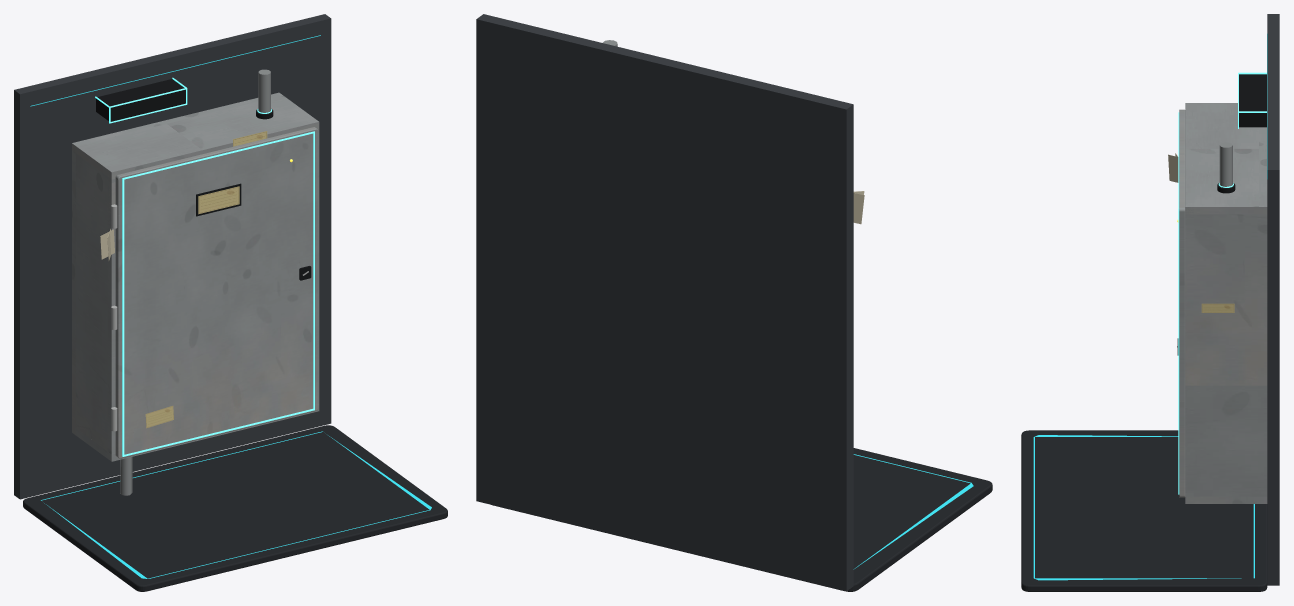
The picture shows the model from 3 angles, left to right: view 1: azimuth 30°, elevation 25°; view 2: azimuth 150°, elevation 25°; view 3: azimuth 270°, elevation 25°; orthographic projection. The views are drawn at different scales.
Parts seen in each view (by area): view 1: quadro_porta_folha, parede, base_peca, quadro_lateral_esq, quadro_topo, luz_emergencia_caixa, quadro_traseira, quadro_moldura_esq, base_peca_linha, quadro_porta_neon_esq, quadro_porta_janela_etiqueta, quadro_fundo; view 2: parede, base_peca; view 3: base_peca, quadro_lateral_dir, parede, quadro_topo, quadro_porta_folha, luz_emergencia_caixa, base_peca_linha, quadro_traseira, quadro_fundo, conduite_superior, quadro_porta_neon_dir.
Boxes of the visible parts, x1,y1,x2,y2 form: quadro_porta_folha: (115, 127, 318, 458); parede: (14, 14, 331, 499); base_peca: (23, 425, 447, 591); quadro_lateral_esq: (75, 153, 111, 451); quadro_topo: (72, 95, 319, 179); luz_emergencia_caixa: (96, 79, 185, 121); quadro_traseira: (72, 92, 282, 434); quadro_moldura_esq: (107, 182, 115, 450); base_peca_linha: (41, 431, 431, 578); quadro_porta_neon_esq: (122, 179, 124, 455); quadro_porta_janela_etiqueta: (198, 186, 239, 214); quadro_fundo: (74, 404, 319, 461); parede: (476, 14, 853, 591); base_peca: (492, 448, 992, 591); base_peca: (1021, 430, 1267, 591); quadro_lateral_dir: (1185, 214, 1267, 496); parede: (1267, 14, 1279, 585); quadro_topo: (1185, 103, 1267, 214); quadro_porta_folha: (1179, 109, 1185, 497); luz_emergencia_caixa: (1239, 74, 1266, 127); base_peca_linha: (1033, 435, 1254, 580); quadro_traseira: (1259, 127, 1267, 206); quadro_fundo: (1185, 496, 1267, 503); conduite_superior: (1219, 142, 1232, 187); quadro_porta_neon_dir: (1178, 210, 1179, 493).
Bounding box in the file's own units: 0.9 × 1.14 × 0.63.
26 materials, 7 textured.
